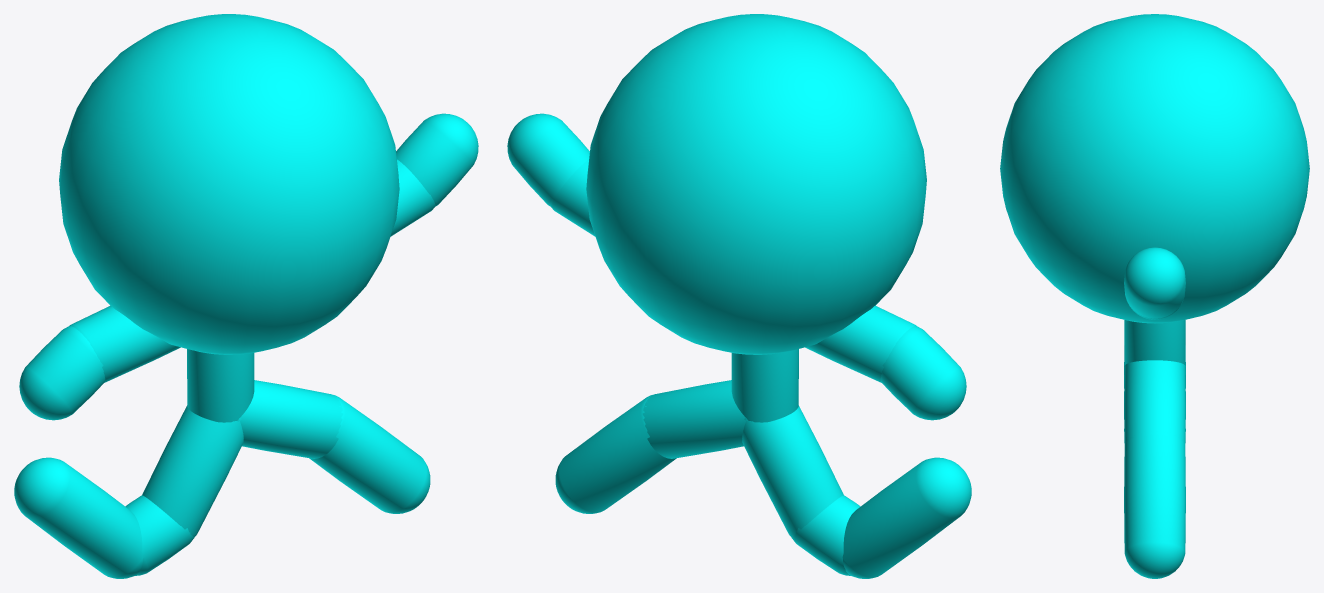
The model's file is StickMan_Jump.obj.
3 views of the same model, side by side, from view 1: azimuth 30°, elevation 25°; view 2: azimuth 150°, elevation 25°; view 3: azimuth 270°, elevation 25° (orthographic). The views are drawn at different scales.
Parts seen in each view (by area): view 1: 球.017, 球.011, 球.012, 球.010, 球.013, 球.020, 球.001, 球.015, 球.014, 球.002, 球.016; view 2: 球.017, 球.011, 球.012, 球.010, 球.013, 球.020, 球.001, 球.015, 球.014, 球.002, 球.016; view 3: 球.017, 球.010, 球.013, 球.001, 球.015.
Part boxes in pixels (x1=…): 球.017: x1=59, y1=14, x2=399, y2=354; 球.011: x1=14, y1=457, x2=143, y2=578; 球.012: x1=142, y1=405, x2=243, y2=536; 球.010: x1=309, y1=394, x2=430, y2=513; 球.013: x1=237, y1=380, x2=343, y2=458; 球.020: x1=19, y1=326, x2=105, y2=420; 球.001: x1=396, y1=113, x2=478, y2=206; 球.015: x1=187, y1=349, x2=254, y2=422; 球.014: x1=69, y1=305, x2=180, y2=382; 球.002: x1=125, y1=495, x2=194, y2=575; 球.016: x1=390, y1=159, x2=435, y2=236; 球.017: x1=586, y1=14, x2=926, y2=354; 球.011: x1=842, y1=457, x2=971, y2=578; 球.012: x1=742, y1=405, x2=843, y2=536; 球.010: x1=555, y1=394, x2=676, y2=513; 球.013: x1=642, y1=380, x2=748, y2=458; 球.020: x1=880, y1=326, x2=966, y2=420; 球.001: x1=507, y1=113, x2=589, y2=206; 球.015: x1=731, y1=349, x2=798, y2=422; 球.014: x1=805, y1=305, x2=916, y2=382; 球.002: x1=791, y1=495, x2=860, y2=575; 球.016: x1=550, y1=159, x2=595, y2=236; 球.017: x1=1000, y1=14, x2=1309, y2=323; 球.010: x1=1124, y1=431, x2=1185, y2=578; 球.013: x1=1124, y1=360, x2=1185, y2=445; 球.001: x1=1124, y1=247, x2=1185, y2=318; 球.015: x1=1124, y1=320, x2=1185, y2=365.
Bounding box in the file's own units: 15.4 × 16.87 × 10.
